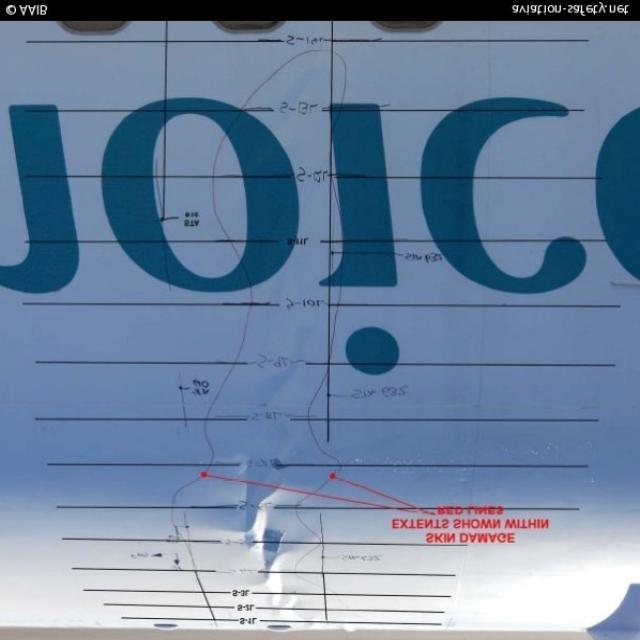dent: (192, 472, 281, 536), (253, 552, 301, 600)
